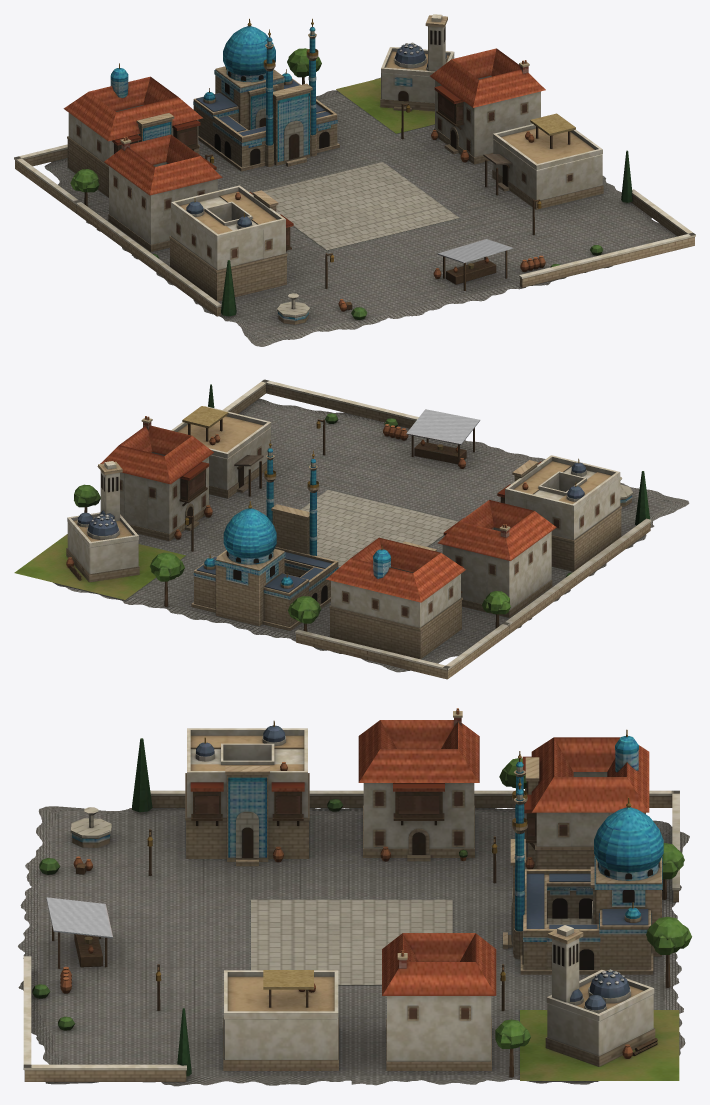
The model's file is gunpowder-town-small-b-levant.glb.
The picture shows the model from 3 angles, top to bottom: view 1: azimuth 30°, elevation 25°; view 2: azimuth 150°, elevation 25°; view 3: azimuth 270°, elevation 25°; orthographic projection. The views are drawn at different scales.
Visible parts, largest first — view 1: LOD0; view 2: LOD0; view 3: LOD0.
Boxes of the visible parts, x1,y1,x2,y2 form: LOD0: (14, 14, 695, 346); LOD0: (14, 379, 689, 679); LOD0: (18, 708, 691, 1086).
Size of what is drawn, in the model's own units: 4.02 by 1.2 by 4.06.
3 materials, 3 textured.
